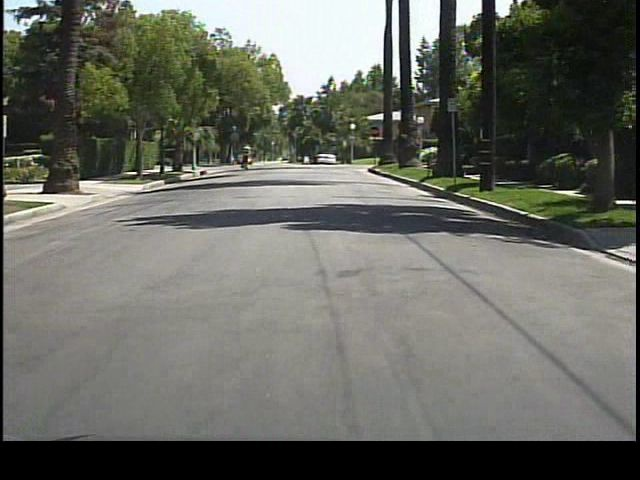person: (239, 141, 255, 172)
